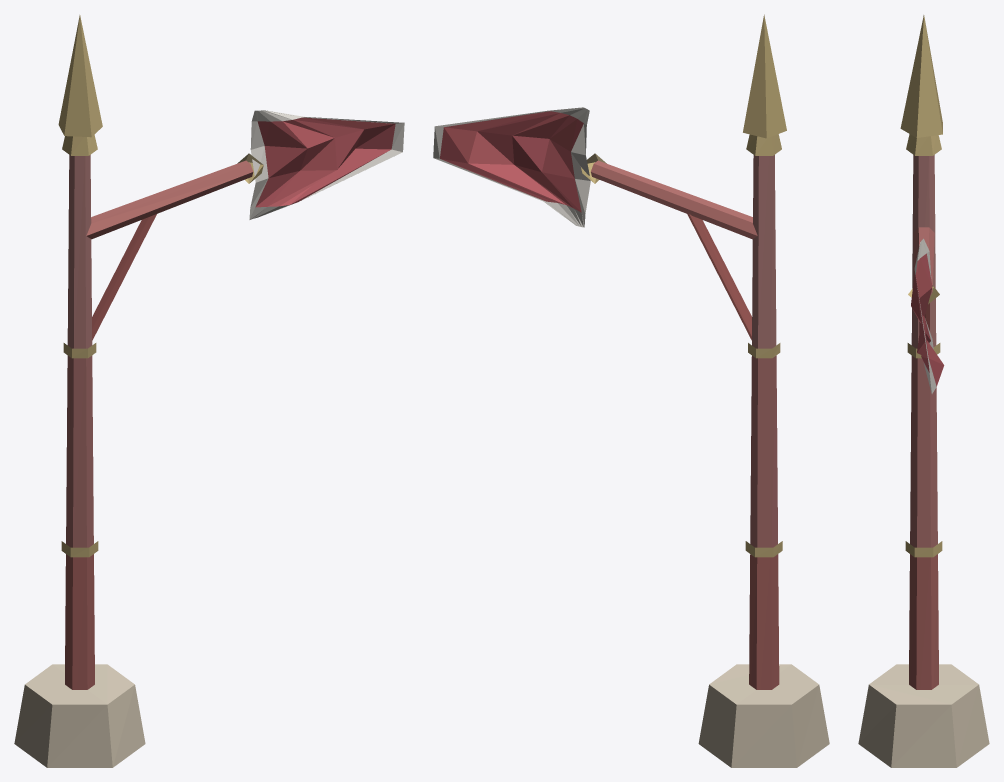
File: flag.pennant.lingqi__pole.ground.miaogan__armFly.glb
The picture shows the model from 3 angles, left to right: view 1: azimuth 30°, elevation 25°; view 2: azimuth 150°, elevation 25°; view 3: azimuth 270°, elevation 25°; orthographic projection.
Parts seen in each view (by area): view 1: flag.pennant.lingqi; view 2: flag.pennant.lingqi; view 3: flag.pennant.lingqi.
Boxes of the visible parts, x1,y1,x2,y2 form: flag.pennant.lingqi: (14, 15, 404, 767); flag.pennant.lingqi: (433, 14, 829, 767); flag.pennant.lingqi: (858, 15, 989, 767).
Bounding box in the file's own units: 2.78 × 5.16 × 0.84.
